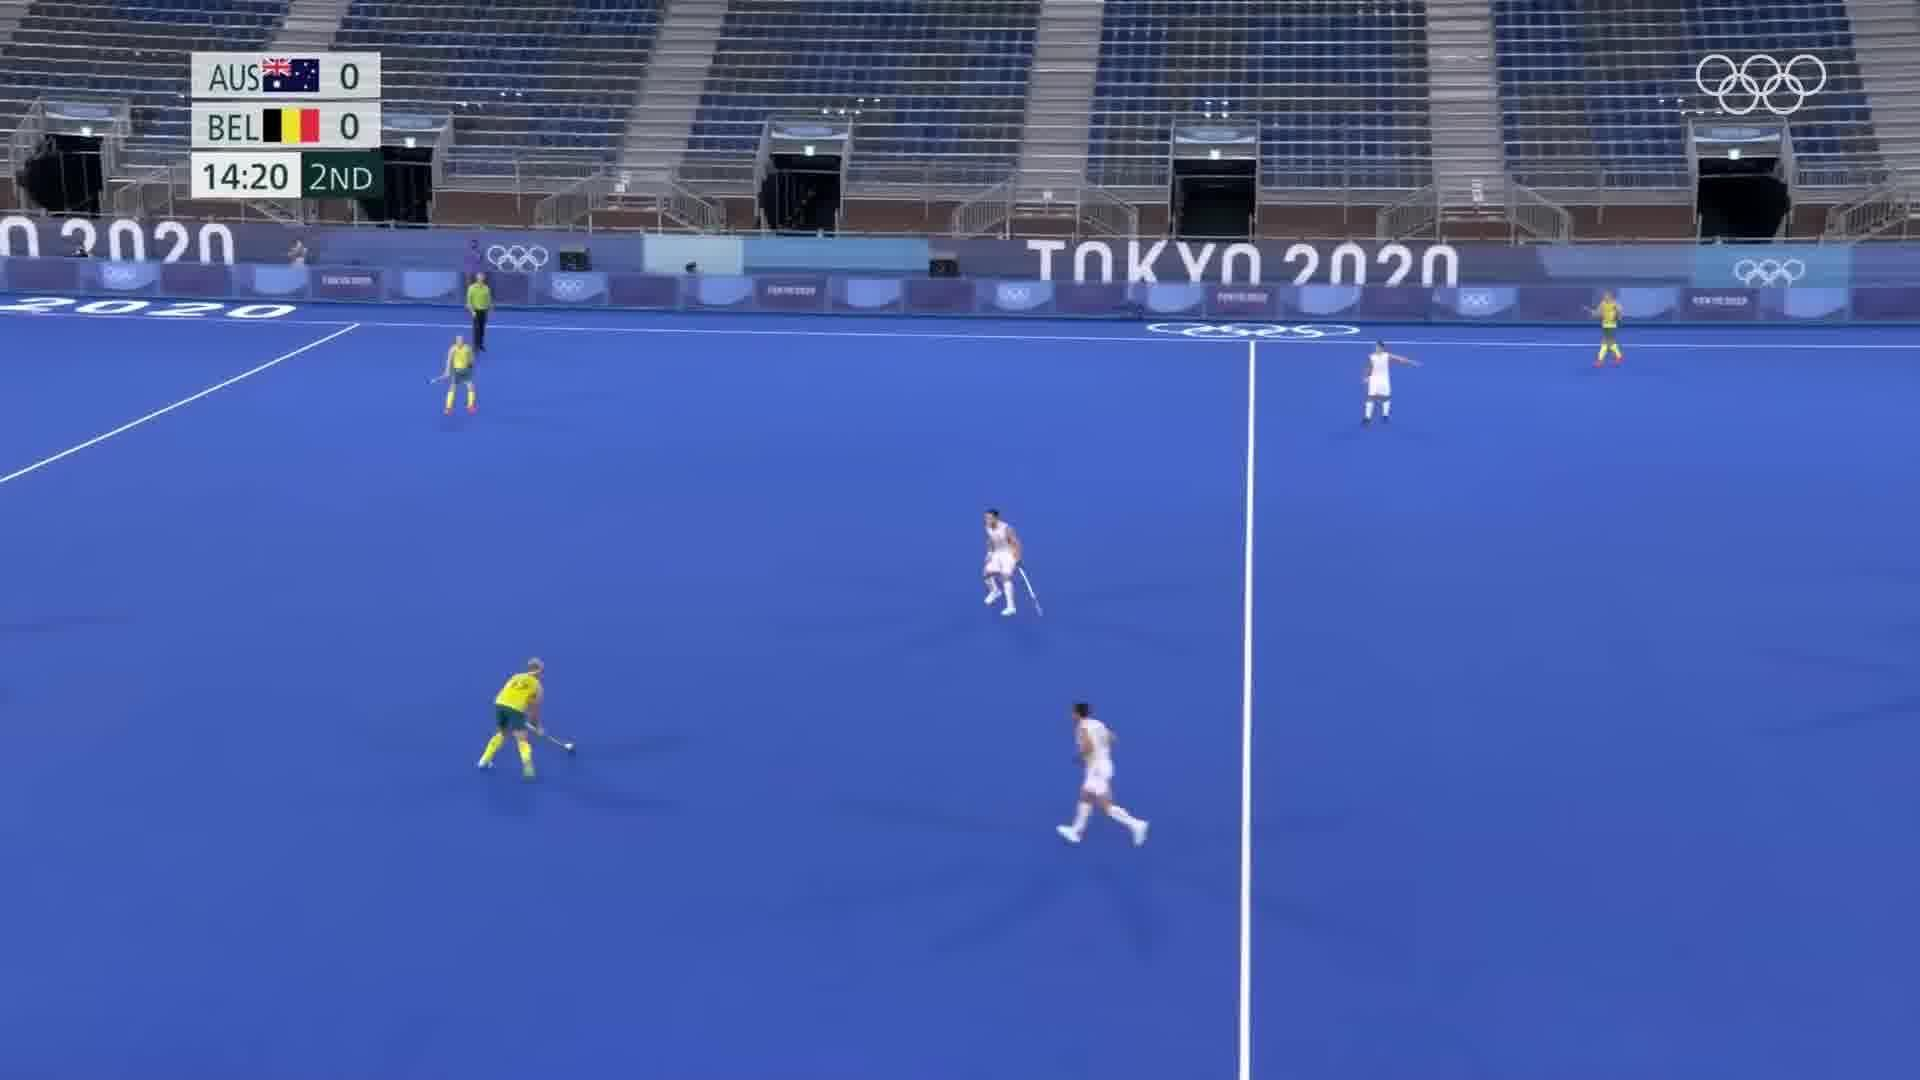ball: (558, 738, 578, 754)
